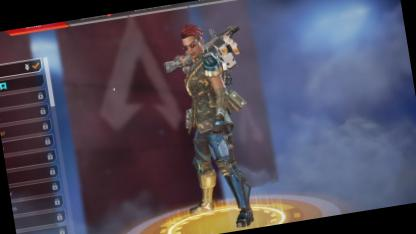Target: (166, 14, 252, 183)
